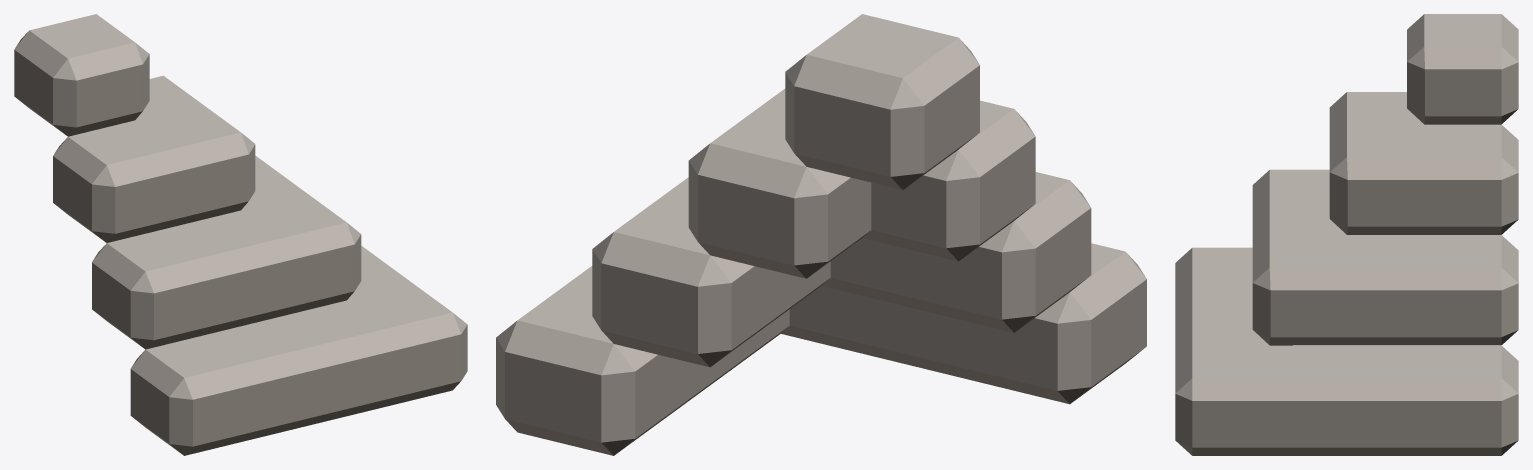
The model's file is m_kub_stone_stairs_only_cornerOut.FBX.
3 views of the same model, side by side, from view 1: azimuth 30°, elevation 25°; view 2: azimuth 150°, elevation 25°; view 3: azimuth 270°, elevation 25° (orthographic). The views are drawn at different scales.
Parts seen in each view (by area): view 1: m_kub_stone_stairs_only_cornerOut; view 2: m_kub_stone_stairs_only_cornerOut; view 3: m_kub_stone_stairs_only_cornerOut.
Boxes of the visible parts, box(x1,y1,x2,y2) form: m_kub_stone_stairs_only_cornerOut: box(14, 14, 467, 455); m_kub_stone_stairs_only_cornerOut: box(496, 14, 1146, 455); m_kub_stone_stairs_only_cornerOut: box(1175, 14, 1518, 455).
Bounding box in the file's own units: 2 × 2 × 2.
